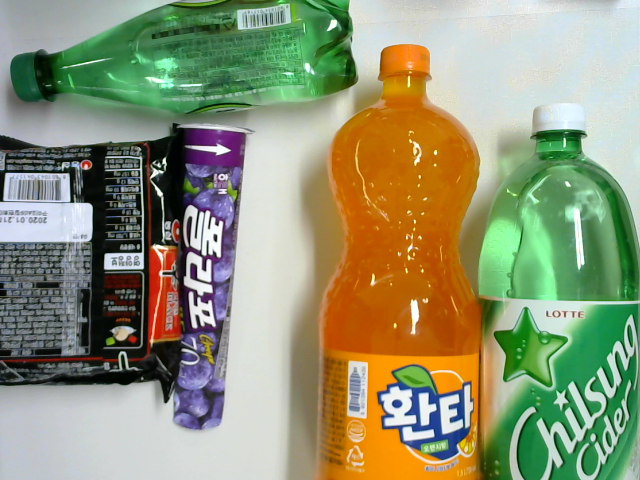Chilseong_Cider_1.5L: (479, 98, 639, 480)
Hwanta_Orange_1.5L: (318, 40, 484, 480)
Polapo_Grape: (166, 118, 257, 436)
Sinramen_Black: (1, 124, 190, 404)
Treviraim_500ml: (9, 1, 369, 114)
